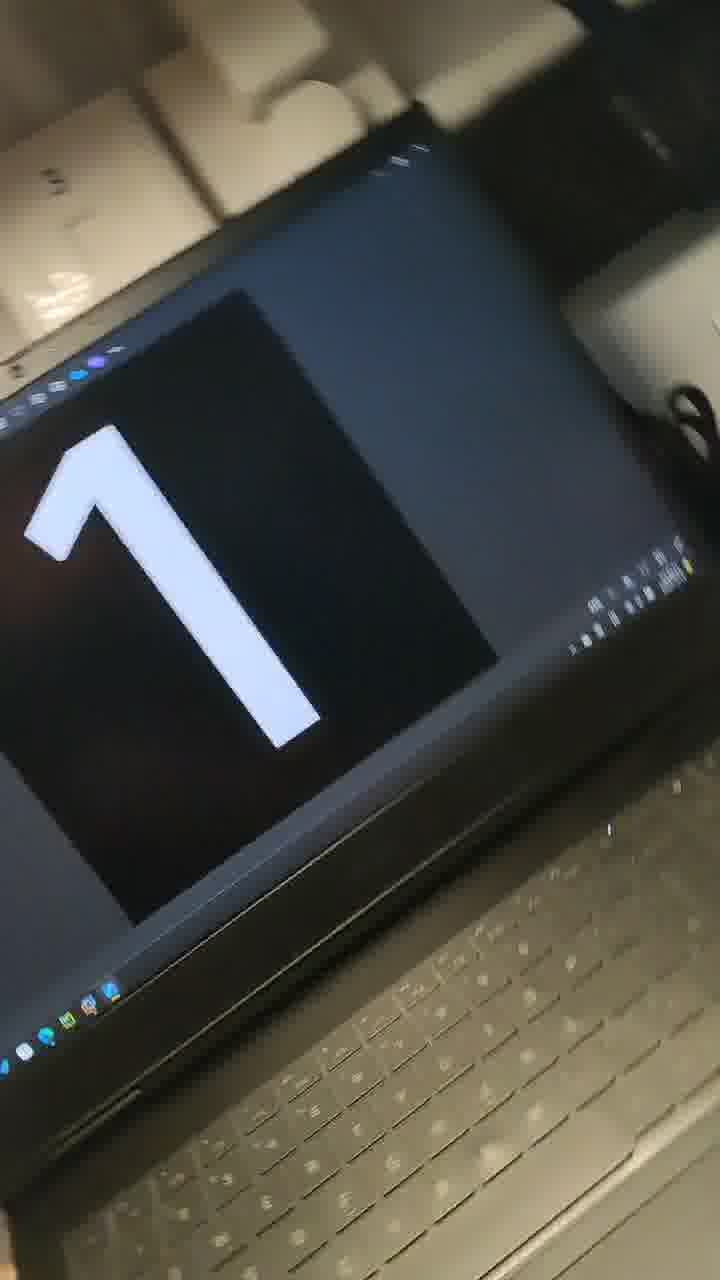one: (16, 376, 333, 805)
